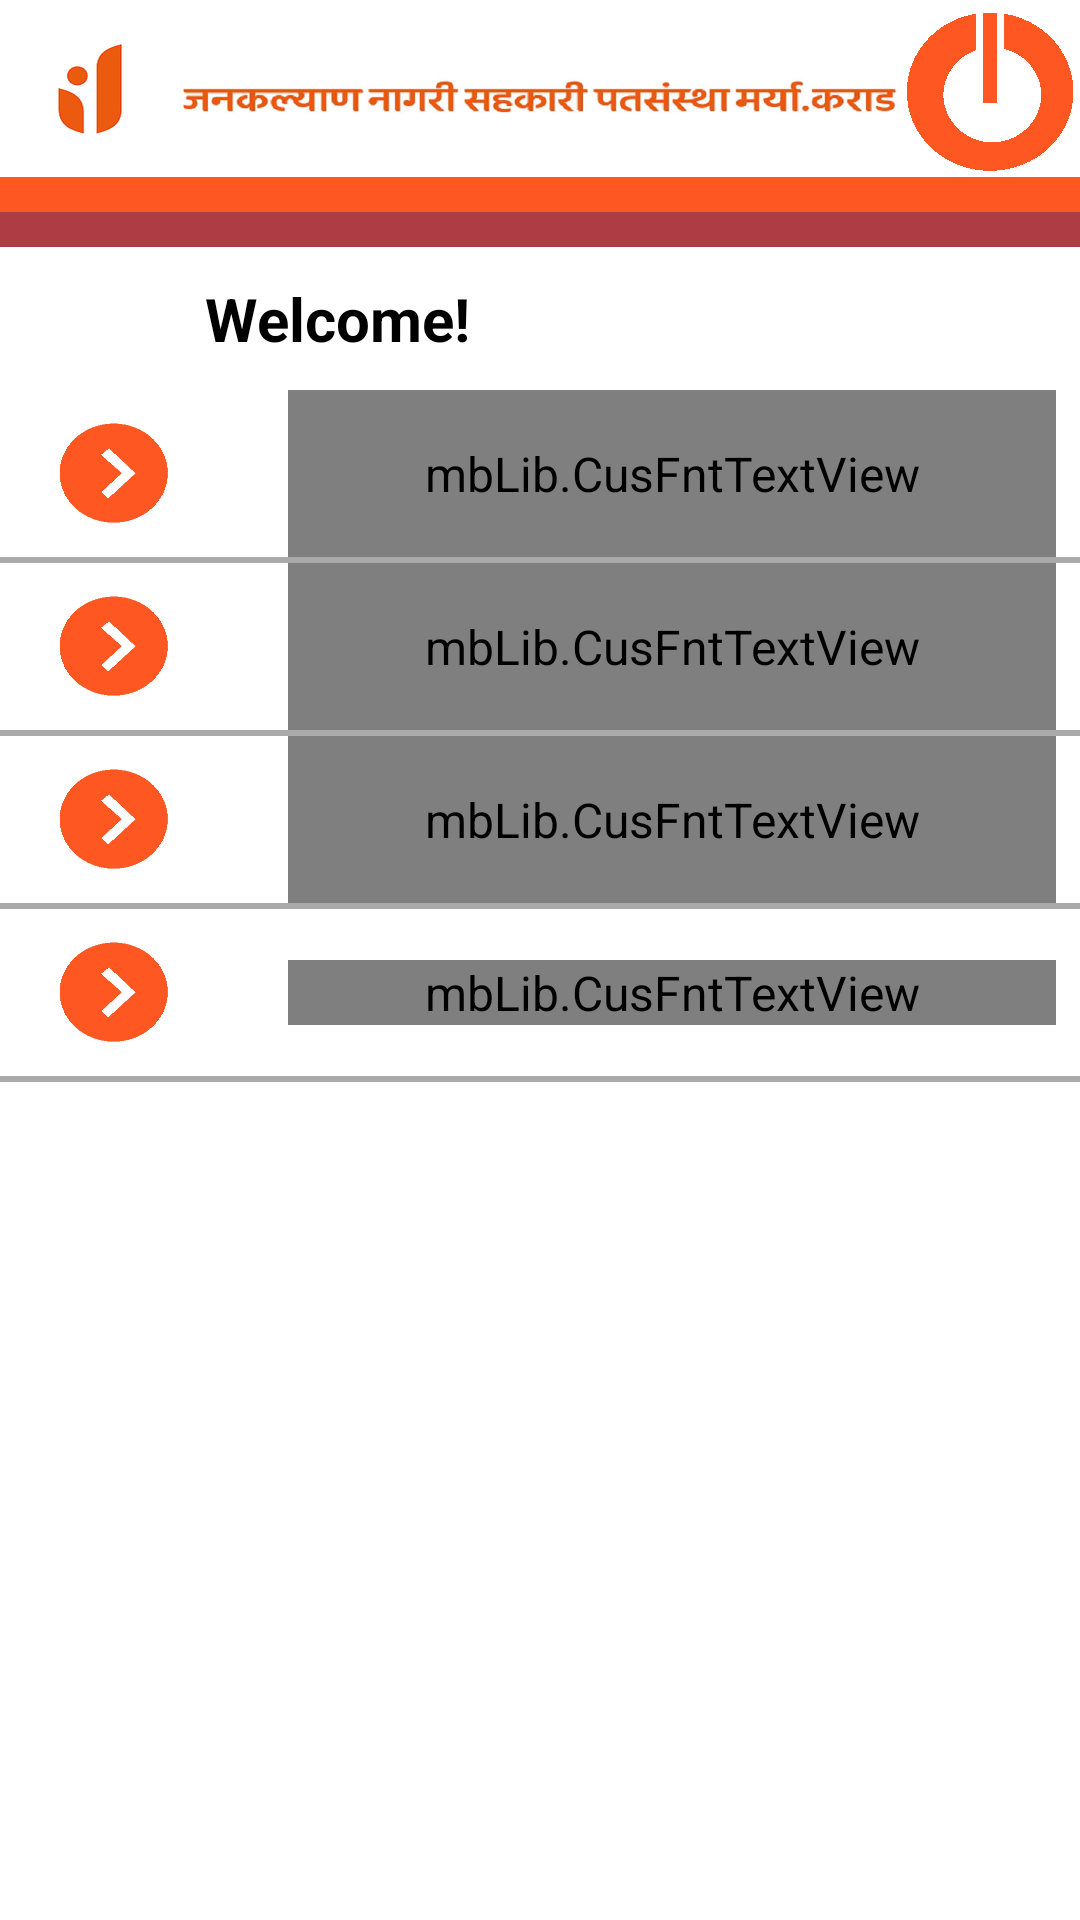

Where icons sit on this 1080x1920 app screen, as (x1, y1, x2, y2):
arrow: (60, 423, 168, 523), (60, 596, 168, 696), (60, 769, 168, 869), (60, 942, 168, 1042)
